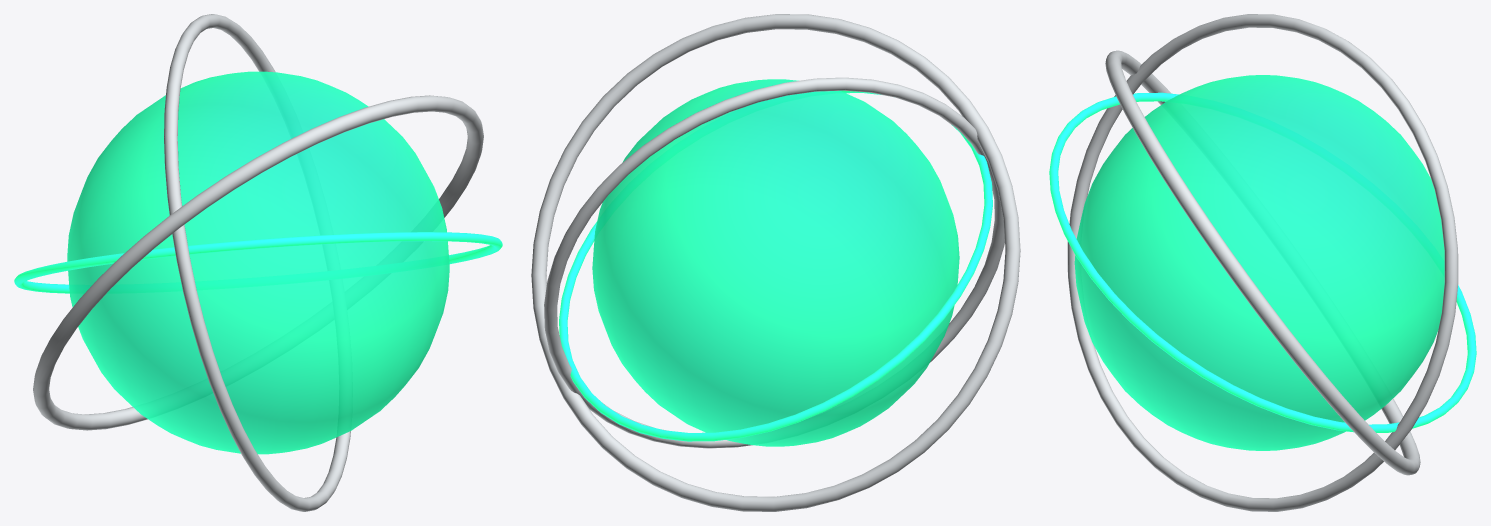
The model's file is vennet-automation-orb.glb.
3 views of the same model, side by side, from view 1: azimuth 30°, elevation 25°; view 2: azimuth 150°, elevation 25°; view 3: azimuth 270°, elevation 25° (orthographic). The views are drawn at different scales.
Visible parts, largest first — view 1: Automation_Core_Emerald, Orbit_Chrome_One, Orbit_Chrome_Two, Orbit_Emerald_Energy; view 2: Automation_Core_Emerald, Orbit_Chrome_One, Orbit_Chrome_Two, Orbit_Emerald_Energy; view 3: Automation_Core_Emerald, Orbit_Chrome_Two, Orbit_Chrome_One, Orbit_Emerald_Energy.
Boxes of the visible parts, x1,y1,x2,y2 form: Automation_Core_Emerald: (67, 71, 449, 454); Orbit_Chrome_One: (33, 95, 483, 430); Orbit_Chrome_Two: (164, 14, 350, 511); Orbit_Emerald_Energy: (14, 232, 502, 293); Automation_Core_Emerald: (592, 79, 959, 446); Orbit_Chrome_One: (531, 14, 1020, 511); Orbit_Chrome_Two: (544, 77, 1004, 448); Orbit_Emerald_Energy: (559, 90, 992, 441); Automation_Core_Emerald: (1074, 75, 1444, 450); Orbit_Chrome_Two: (1067, 14, 1458, 511); Orbit_Chrome_One: (1105, 50, 1420, 475); Orbit_Emerald_Energy: (1049, 92, 1476, 432).
Size of the model in its own units: 3.22 by 2.98 by 2.68.
